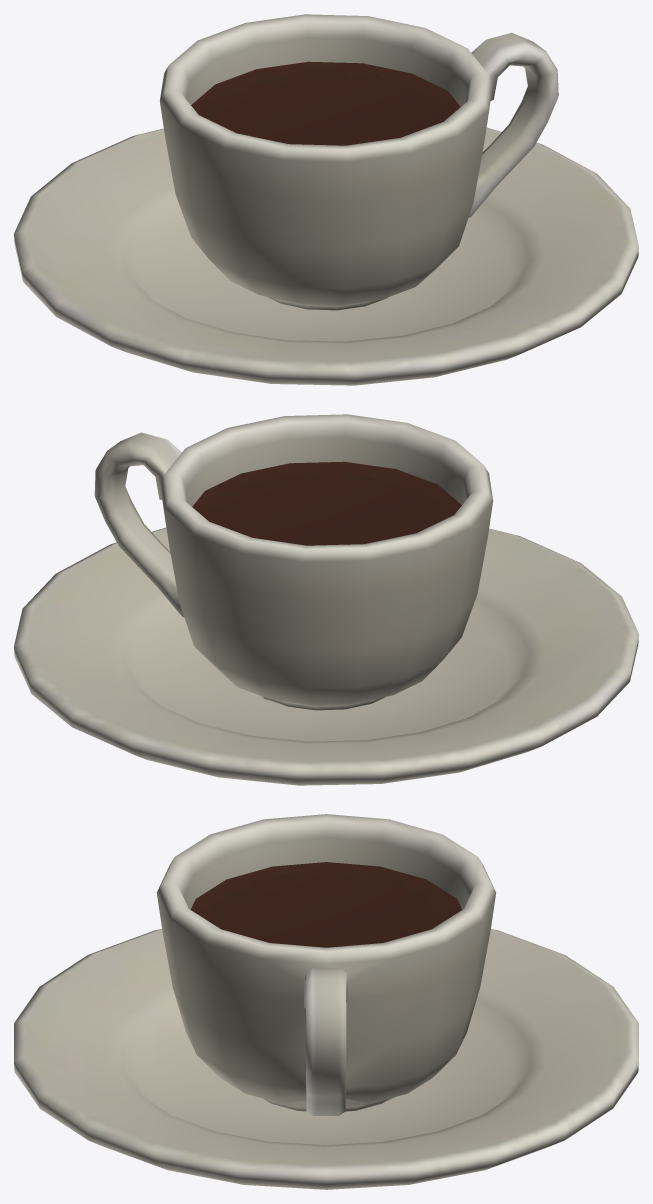
3 views of the same model, one above another, from view 1: azimuth 30°, elevation 25°; view 2: azimuth 150°, elevation 25°; view 3: azimuth 270°, elevation 25° (orthographic).
Bounding box in the file's own units: 4.42 × 1.86 × 4.37.
Materials: 2 (2 with a texture image).
